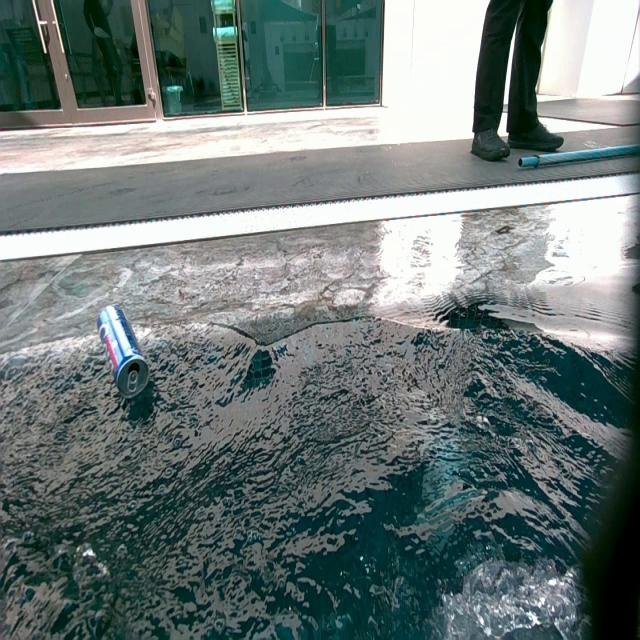Cans: (100, 304, 154, 398)
